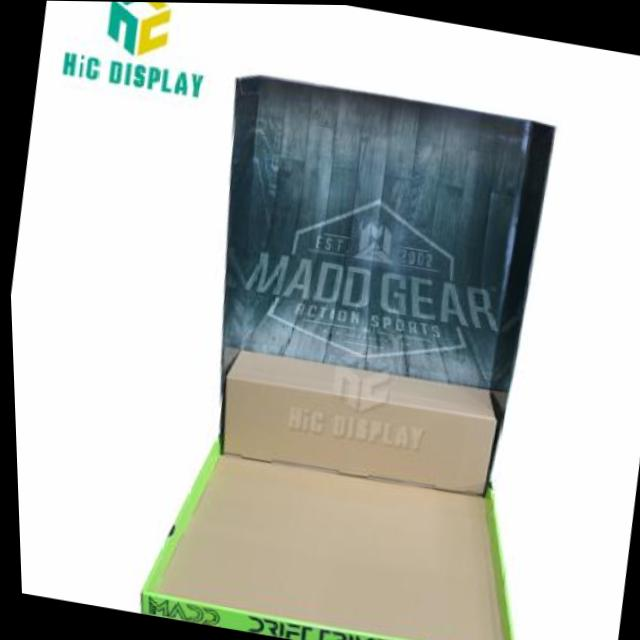box: (106, 57, 603, 640)
